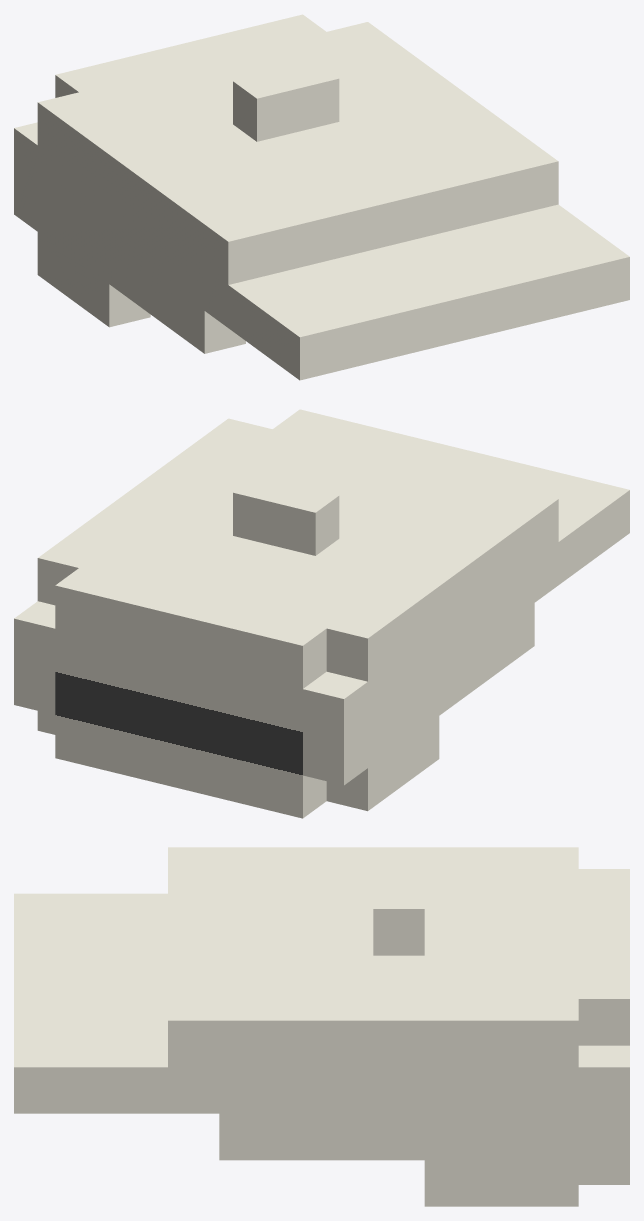
File: czapka_v2.dae
3 views of the same model, one above another, from view 1: azimuth 30°, elevation 25°; view 2: azimuth 150°, elevation 25°; view 3: azimuth 270°, elevation 25° (orthographic). The views are drawn at different scales.
Parts seen in each view (by area): view 1: Content.001; view 2: Content.001; view 3: Content.001.
Part boxes in pixels (bbox=[...]): Content.001: bbox=[14, 14, 629, 380]; Content.001: bbox=[14, 409, 629, 818]; Content.001: bbox=[14, 847, 629, 1206].
Bounding box in the file's own units: 8 × 12 × 5.
1 material, 1 textured.
